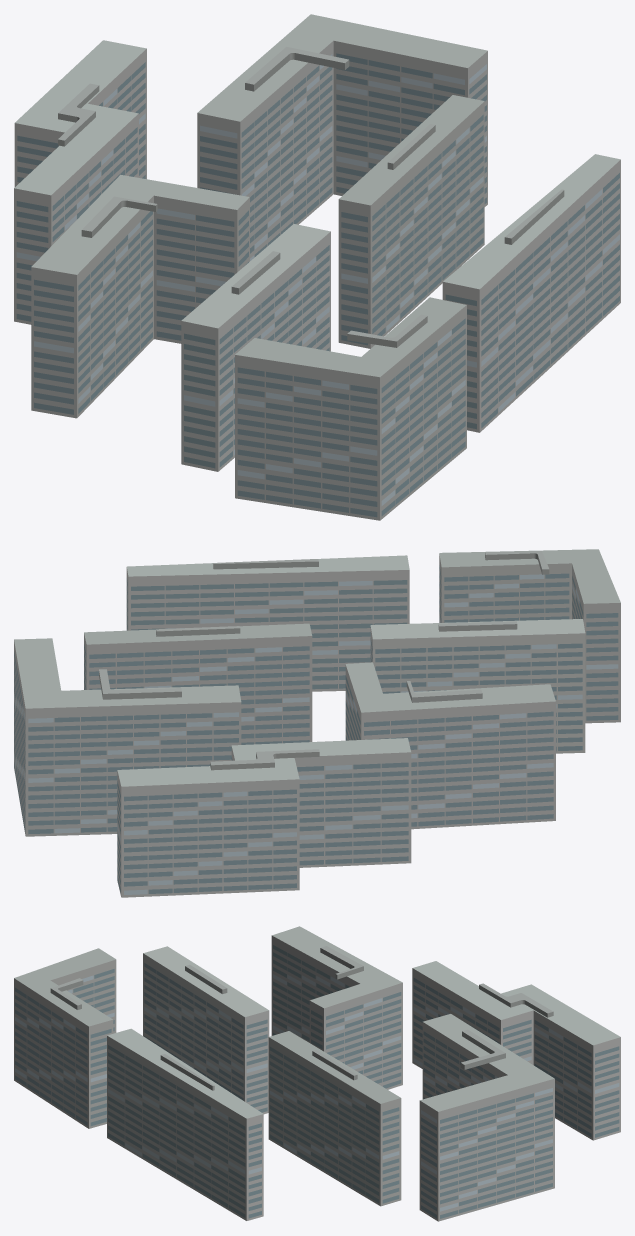
File: apt-a11077101.glb
3 renders of one model, top to bottom at view 1: azimuth 30°, elevation 25°; view 2: azimuth 150°, elevation 25°; view 3: azimuth 270°, elevation 25°, orthographic. The views are drawn at different scales.
Visible parts, largest first — view 1: apt-a11077101; view 2: apt-a11077101; view 3: apt-a11077101.
Part boxes in pixels (x1,y1,x2,y2): apt-a11077101: [14, 14, 620, 520]; apt-a11077101: [14, 549, 620, 897]; apt-a11077101: [14, 926, 620, 1221].
Size of the model in its own units: 172 by 47.81 by 229.
